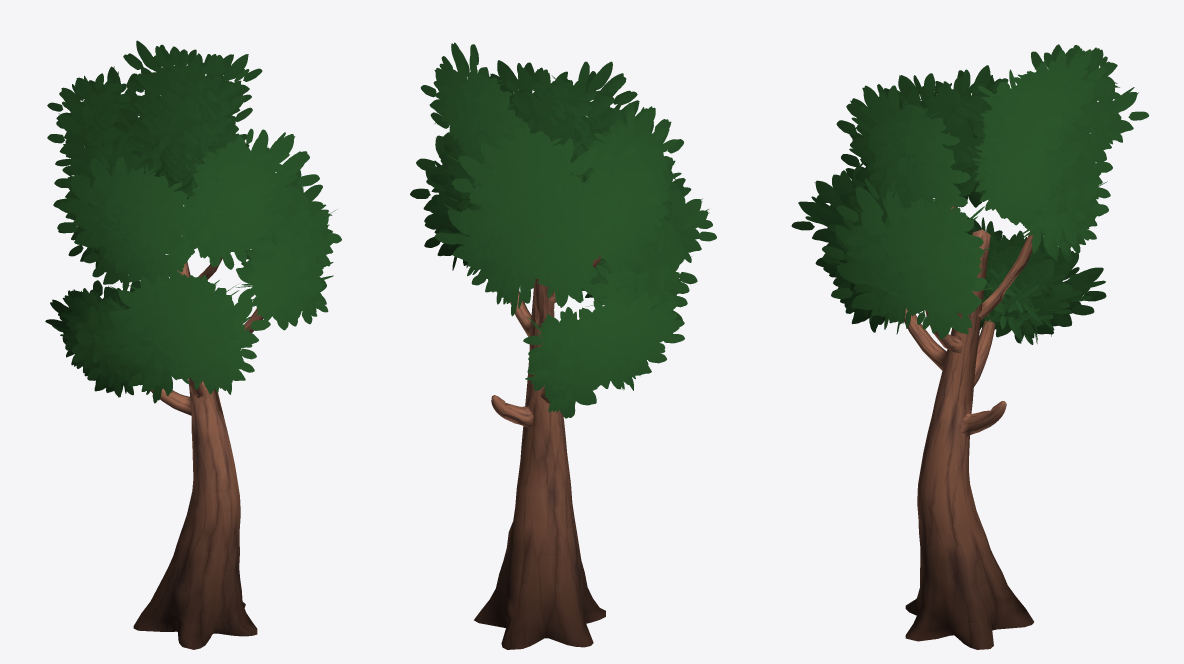
The model's file is arv_macieira.glb.
3 renders of one model, left to right at view 1: azimuth 30°, elevation 25°; view 2: azimuth 150°, elevation 25°; view 3: azimuth 270°, elevation 25°, orthographic. The views are drawn at different scales.
Visible parts, largest first — view 1: CommonTree_5; view 2: CommonTree_5; view 3: CommonTree_5.
Part boxes in pixels (x1=…): CommonTree_5: x1=45, y1=40, x2=341, y2=649; CommonTree_5: x1=410, y1=42, x2=716, y2=649; CommonTree_5: x1=791, y1=44, x2=1149, y2=649.
Bounding box in the file's own units: 3.67 × 7.01 × 4.22.
Materials: 2 (2 with a texture image).
